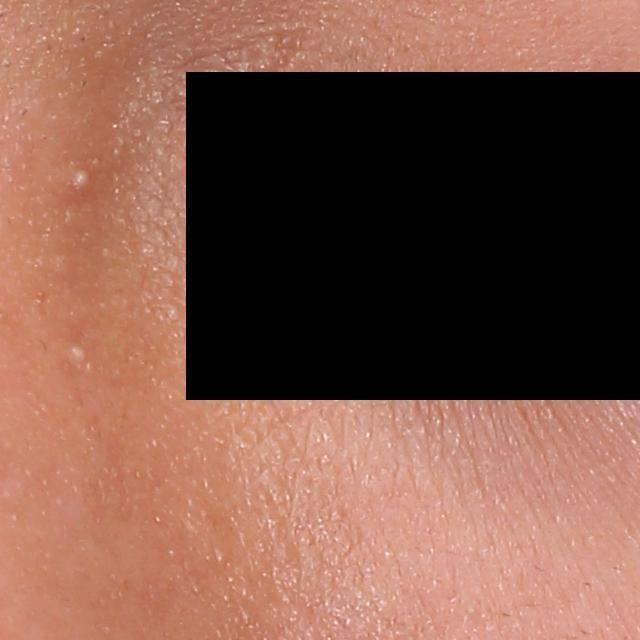pustule: (69, 167, 91, 192)
